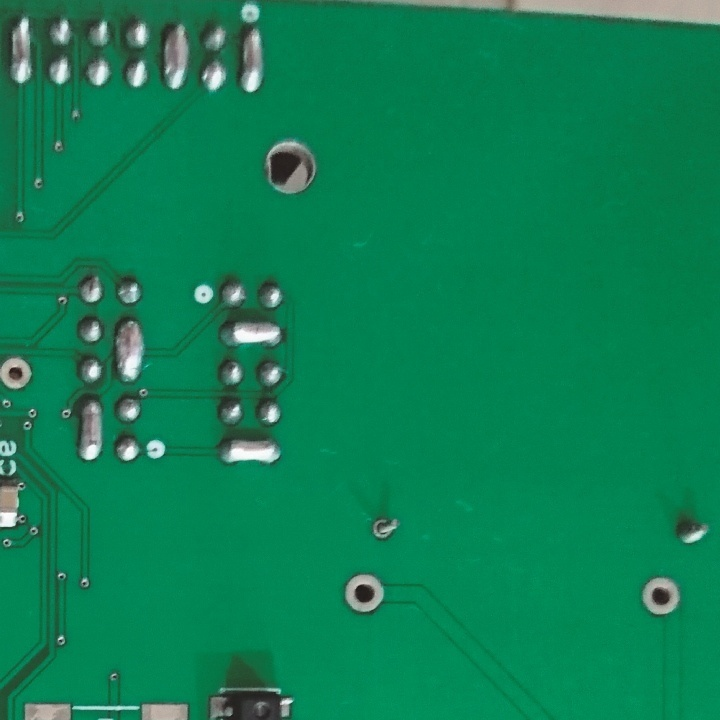F: (639, 572, 682, 620), (344, 569, 383, 615), (1, 352, 36, 392), (369, 513, 403, 543)
P: (110, 315, 148, 387), (215, 316, 288, 352), (216, 432, 284, 469), (77, 395, 107, 468), (239, 23, 267, 98), (8, 13, 36, 87), (164, 22, 192, 94)
